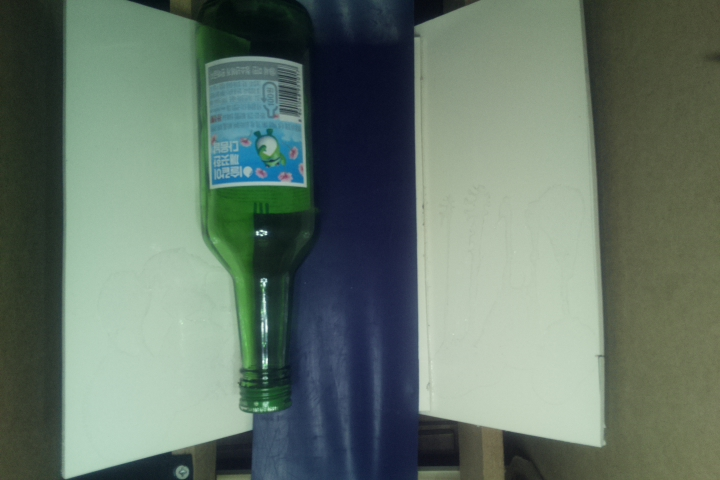soju: (197, 1, 317, 416)
